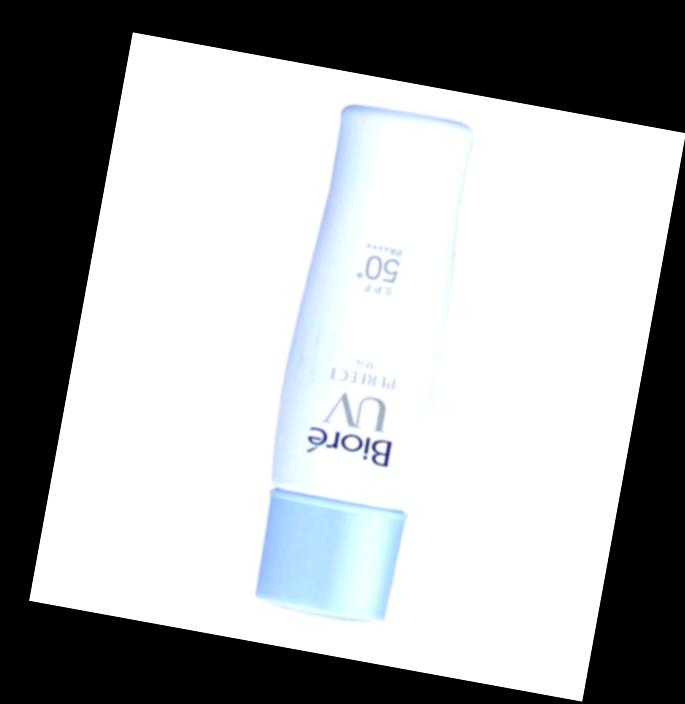cosmetic: (246, 103, 481, 621)
